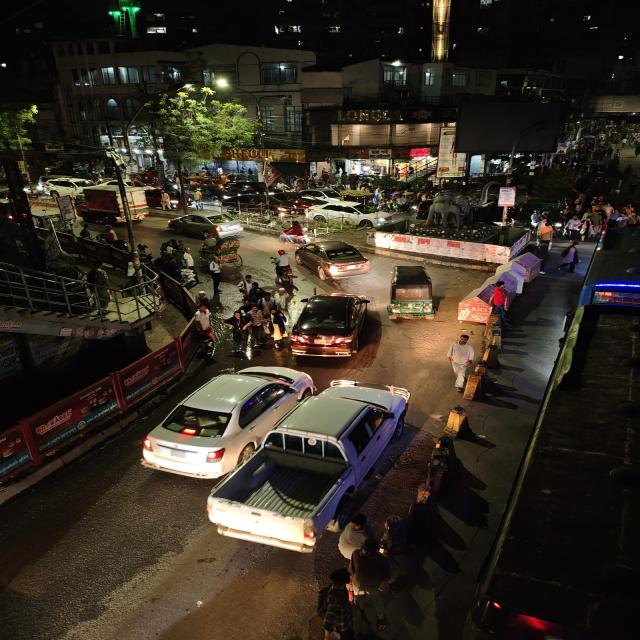car: (200, 379, 420, 557), (136, 363, 311, 479), (288, 291, 374, 361), (294, 238, 374, 281), (307, 201, 398, 229), (165, 212, 248, 238), (230, 193, 300, 216), (296, 186, 338, 204)
cng: (384, 263, 443, 325)
motorcycle: (269, 248, 295, 285), (277, 220, 309, 244)
pedestrian: (445, 331, 477, 391), (225, 305, 262, 355), (204, 257, 227, 291), (267, 308, 288, 345), (235, 273, 258, 301), (535, 221, 556, 251), (559, 242, 579, 270)
rickshaw: (200, 235, 246, 266), (279, 221, 309, 245)
truck: (80, 187, 149, 222)
